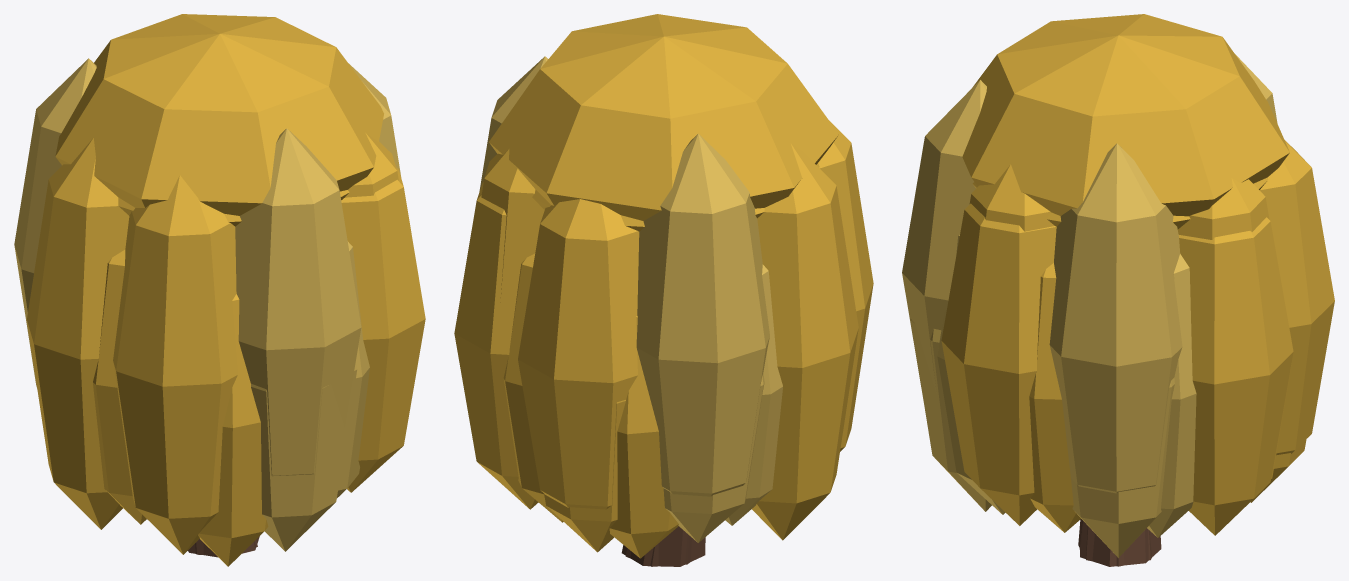
Rendered from tree_willow_autumn.glb.
3 views of the same model, side by side, from view 1: azimuth 30°, elevation 25°; view 2: azimuth 150°, elevation 25°; view 3: azimuth 270°, elevation 25° (orthographic).
Parts seen in each view (by area): view 1: Willow_dome_canopy.002, Willow_drooping_curtain_canopy.021, Willow_drooping_curtain_canopy.022, Willow_drooping_curtain_canopy.020, Willow_drooping_curtain_canopy.023, Willow_drooping_curtain_canopy.013, Willow_drooping_curtain_canopy.006, Willow_drooping_curtain_canopy.019, Willow_drooping_curtain_canopy.012, Willow_drooping_curtain_canopy.014, Willow_drooping_curtain_canopy.007, Willow_drooping_curtain_canopy.016; view 2: Willow_dome_canopy.002, Willow_drooping_curtain_canopy.019, Willow_drooping_curtain_canopy.018, Willow_drooping_curtain_canopy.020, Willow_drooping_curtain_canopy.017, Willow_drooping_curtain_canopy.010, Willow_drooping_curtain_canopy.021, Willow_drooping_curtain_canopy.001, Willow_drooping_curtain_canopy.011, Willow_drooping_curtain_canopy.009, Willow_drooping_curtain_canopy.003, Willow_drooping_curtain_canopy.002 (+2 smaller); view 3: Willow_dome_canopy.002, Willow_drooping_curtain_canopy.016, Willow_drooping_curtain_canopy.017, Willow_drooping_curtain_canopy.023, Willow_drooping_curtain_canopy.018, Willow_drooping_curtain_canopy.022, Willow_drooping_curtain_canopy.015, Willow_drooping_curtain_canopy.008, Willow_drooping_curtain_canopy, Willow_drooping_curtain_canopy.006, Willow_drooping_curtain_canopy.001, Willow_drooping_curtain_canopy.007 (+3 smaller).
Boxes of the visible parts, x1=… form: Willow_dome_canopy.002: x1=55, y1=14, x2=383, y2=215; Willow_drooping_curtain_canopy.021: x1=113, y1=175, x2=237, y2=554; Willow_drooping_curtain_canopy.022: x1=235, y1=128, x2=361, y2=476; Willow_drooping_curtain_canopy.020: x1=27, y1=138, x2=129, y2=529; Willow_drooping_curtain_canopy.023: x1=341, y1=167, x2=425, y2=492; Willow_drooping_curtain_canopy.013: x1=198, y1=294, x2=268, y2=566; Willow_drooping_curtain_canopy.006: x1=251, y1=361, x2=357, y2=551; Willow_drooping_curtain_canopy.019: x1=14, y1=58, x2=96, y2=388; Willow_drooping_curtain_canopy.012: x1=93, y1=249, x2=146, y2=524; Willow_drooping_curtain_canopy.014: x1=337, y1=241, x2=369, y2=497; Willow_drooping_curtain_canopy.007: x1=345, y1=132, x2=398, y2=197; Willow_drooping_curtain_canopy.016: x1=348, y1=63, x2=401, y2=177; Willow_dome_canopy.002: x1=489, y1=14, x2=838, y2=220; Willow_drooping_curtain_canopy.019: x1=636, y1=133, x2=769, y2=496; Willow_drooping_curtain_canopy.018: x1=518, y1=199, x2=639, y2=509; Willow_drooping_curtain_canopy.020: x1=752, y1=143, x2=858, y2=540; Willow_drooping_curtain_canopy.017: x1=454, y1=182, x2=538, y2=509; Willow_drooping_curtain_canopy.010: x1=609, y1=316, x2=678, y2=558; Willow_drooping_curtain_canopy.021: x1=818, y1=120, x2=873, y2=451; Willow_drooping_curtain_canopy.001: x1=481, y1=149, x2=544, y2=307; Willow_drooping_curtain_canopy.011: x1=725, y1=264, x2=782, y2=525; Willow_drooping_curtain_canopy.009: x1=503, y1=253, x2=563, y2=522; Willow_drooping_curtain_canopy.003: x1=663, y1=373, x2=764, y2=542; Willow_drooping_curtain_canopy.002: x1=544, y1=400, x2=625, y2=552; Willow_dome_canopy.002: x1=962, y1=14, x2=1289, y2=216; Willow_drooping_curtain_canopy.016: x1=1049, y1=143, x2=1182, y2=493; Willow_drooping_curtain_canopy.017: x1=1178, y1=217, x2=1293, y2=535; Willow_drooping_curtain_canopy.023: x1=941, y1=203, x2=1056, y2=525; Willow_drooping_curtain_canopy.018: x1=1259, y1=140, x2=1334, y2=455; Willow_drooping_curtain_canopy.022: x1=902, y1=80, x2=986, y2=393; Willow_drooping_curtain_canopy.015: x1=1029, y1=263, x2=1080, y2=532; Willow_drooping_curtain_canopy.008: x1=1147, y1=254, x2=1196, y2=537; Willow_drooping_curtain_canopy: x1=1071, y1=378, x2=1174, y2=557; Willow_drooping_curtain_canopy.006: x1=910, y1=319, x2=991, y2=511; Willow_drooping_curtain_canopy.001: x1=1178, y1=178, x2=1269, y2=239; Willow_drooping_curtain_canopy.007: x1=969, y1=164, x2=1054, y2=231.
Bounding box in the file's own units: 2.41 × 3.16 × 2.41.
